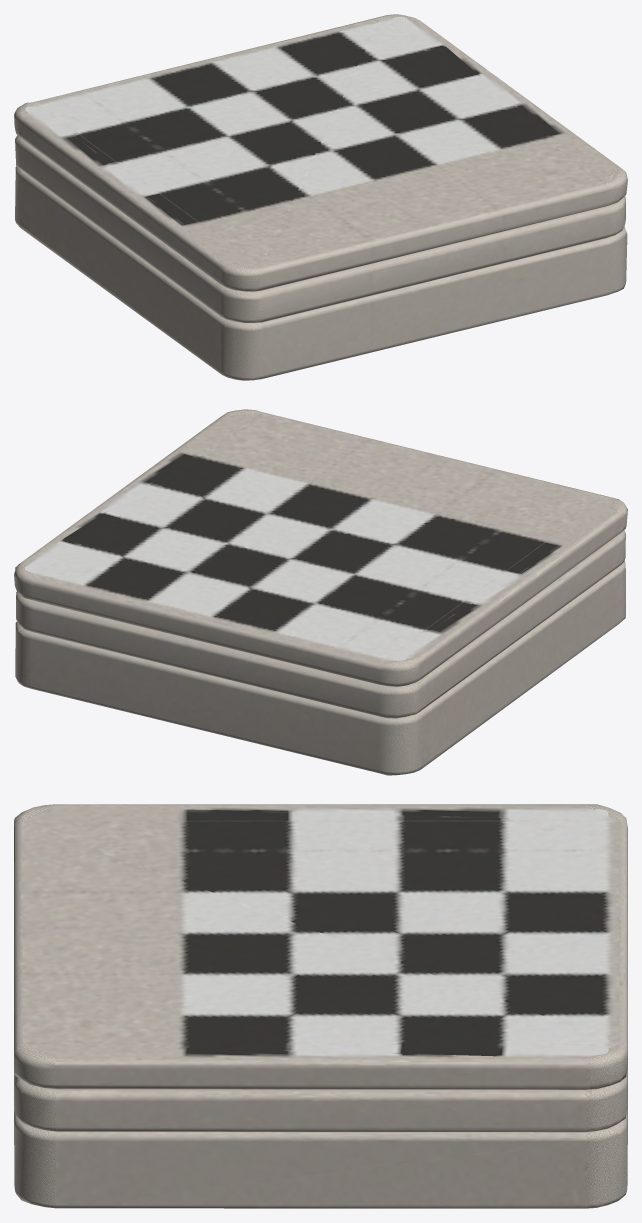
The model's file is env_cafe_floor.glb.
3 renders of one model, top to bottom at view 1: azimuth 30°, elevation 25°; view 2: azimuth 150°, elevation 25°; view 3: azimuth 270°, elevation 25°, orthographic. The views are drawn at different scales.
Bounding box in the file's own units: 1 × 0.2701 × 1.
1 material, 1 textured.
